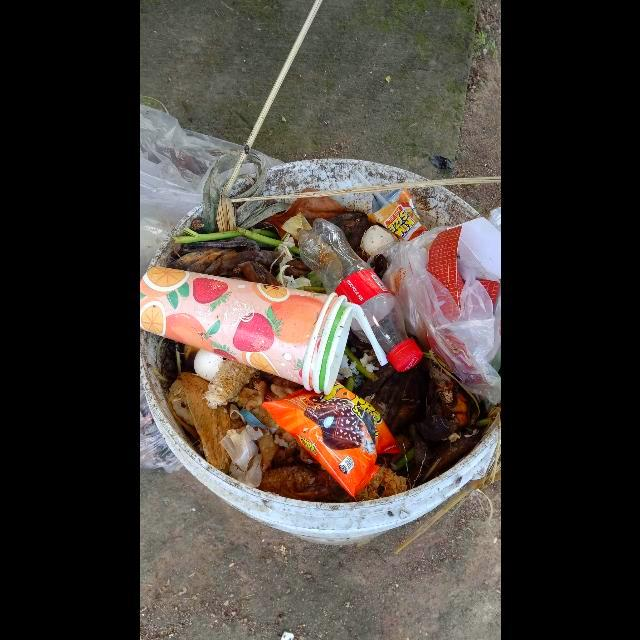cardboard: (139, 267, 352, 395)
food_wrapper: (261, 384, 399, 500)
left_over_food: (204, 360, 253, 409)
plastic_bottle: (297, 218, 423, 373)
